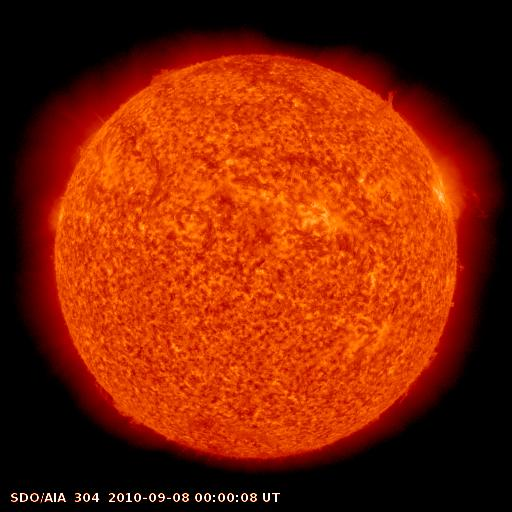prominence: (438, 161, 490, 232), (73, 109, 110, 163), (375, 73, 410, 117), (140, 61, 182, 91)
